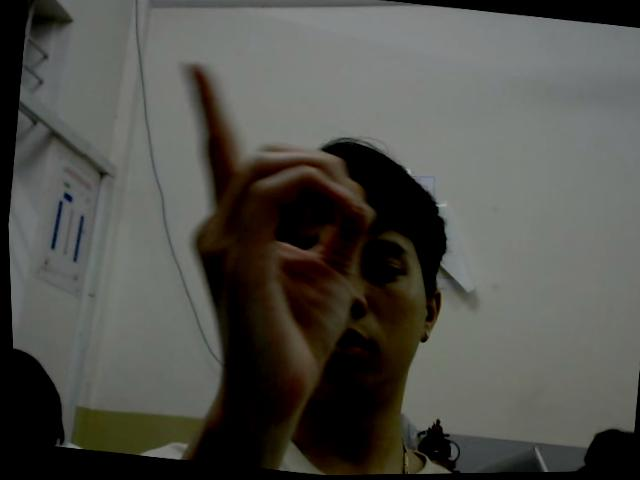D: (138, 54, 397, 395)
